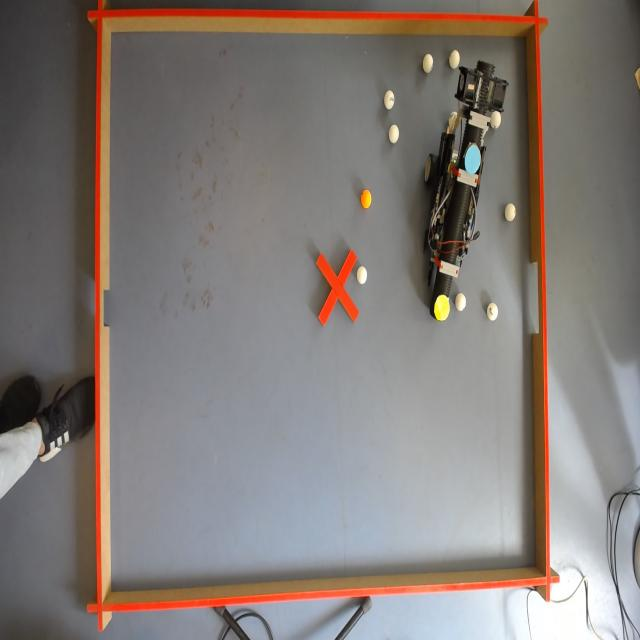orange: (359, 188, 372, 210)
robot: (423, 59, 508, 320)
robot-front: (435, 295, 450, 322)
robot-rear: (465, 145, 481, 174)
white: (355, 263, 367, 286), (486, 302, 499, 322), (422, 54, 434, 74), (384, 90, 396, 110), (455, 292, 467, 311), (505, 202, 517, 220), (389, 126, 401, 144), (491, 110, 502, 129), (449, 51, 460, 68)
